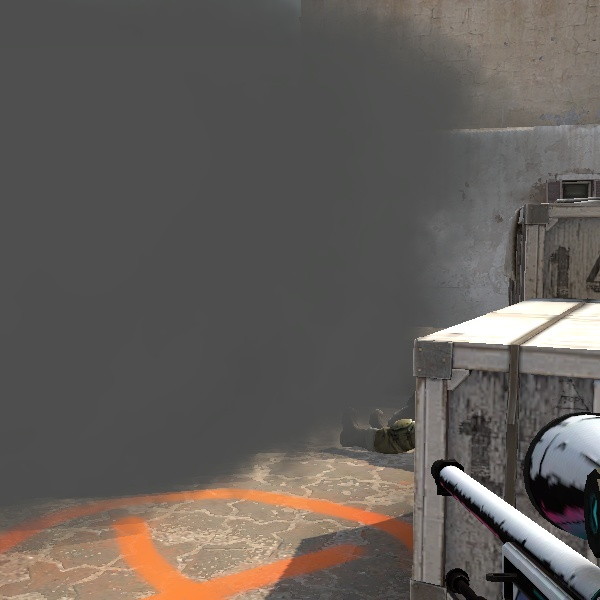t_head: (433, 563, 487, 599)
